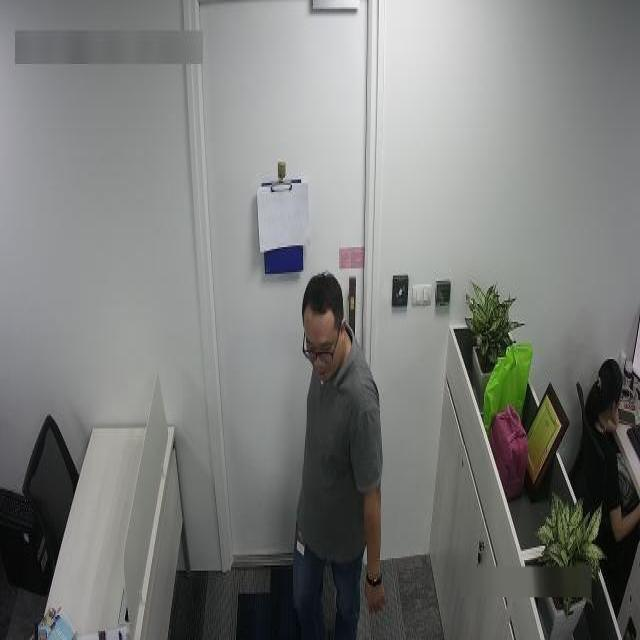bare_hand: (351, 567, 393, 620)
